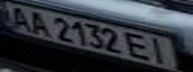1: (66, 19, 87, 46)
2: (100, 26, 124, 56), (48, 15, 72, 43)
3: (84, 21, 103, 51)
A: (3, 3, 33, 32), (24, 8, 54, 36)
E: (124, 32, 154, 61)
I: (145, 36, 175, 65)
